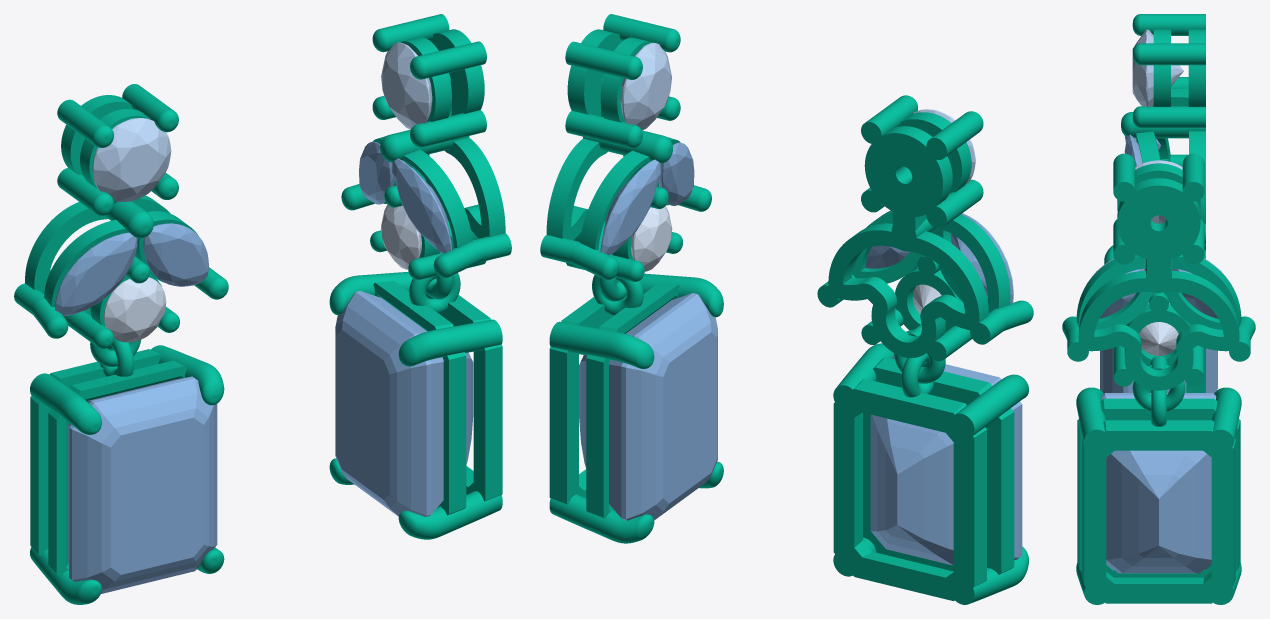
3 views of the same model, side by side, from view 1: azimuth 30°, elevation 25°; view 2: azimuth 150°, elevation 25°; view 3: azimuth 270°, elevation 25° (orthographic). The views are drawn at different scales.
Parts seen in each view (by area): view 1: Diamond_Emerald (×2), Bezel (×10), Head Prong (×15), Diamond_Round (×4), VEAR140.3dm, Diamond_Marquise (×4); view 2: Bezel (×13), Diamond_Emerald (×2), Head Prong (×14), VEAR140.3dm, Diamond_Marquise (×4), Diamond_Round (×2); view 3: Bezel (×11), Diamond_Emerald (×2), VEAR140.3dm, Head Prong (×12), Diamond_Round (×3), Diamond_Marquise (×3).
Part boxes in pixels (left/top/right/bottom): Diamond_Emerald (×2): left=68, top=291, right=473, bottom=593; Bezel (×10): left=30, top=29, right=502, bottom=575; Head Prong (×15): left=30, top=14, right=502, bottom=604; Diamond_Round (×4): left=92, top=42, right=432, bottom=342; VEAR140.3dm: left=14, top=106, right=511, bottom=376; Diamond_Marquise (×4): left=55, top=141, right=451, bottom=316; Bezel (×13): left=549, top=29, right=1014, bottom=600; Diamond_Emerald (×2): left=579, top=293, right=1022, bottom=565; Head Prong (×14): left=549, top=14, right=1033, bottom=604; VEAR140.3dm: left=540, top=107, right=1007, bottom=397; Diamond_Marquise (×4): left=600, top=142, right=1013, bottom=303; Diamond_Round (×2): left=620, top=42, right=672, bottom=271; Bezel (×11): left=1076, top=29, right=1241, bottom=603; Diamond_Emerald (×2): left=1100, top=348, right=1217, bottom=573; VEAR140.3dm: left=1067, top=88, right=1250, bottom=426; Head Prong (×12): left=1076, top=14, right=1241, bottom=604; Diamond_Round (×3): left=1132, top=29, right=1183, bottom=355; Diamond_Marquise (×3): left=1080, top=134, right=1237, bottom=318.
Size of the model in its own units: 2.7 by 2.73 by 1.11.
